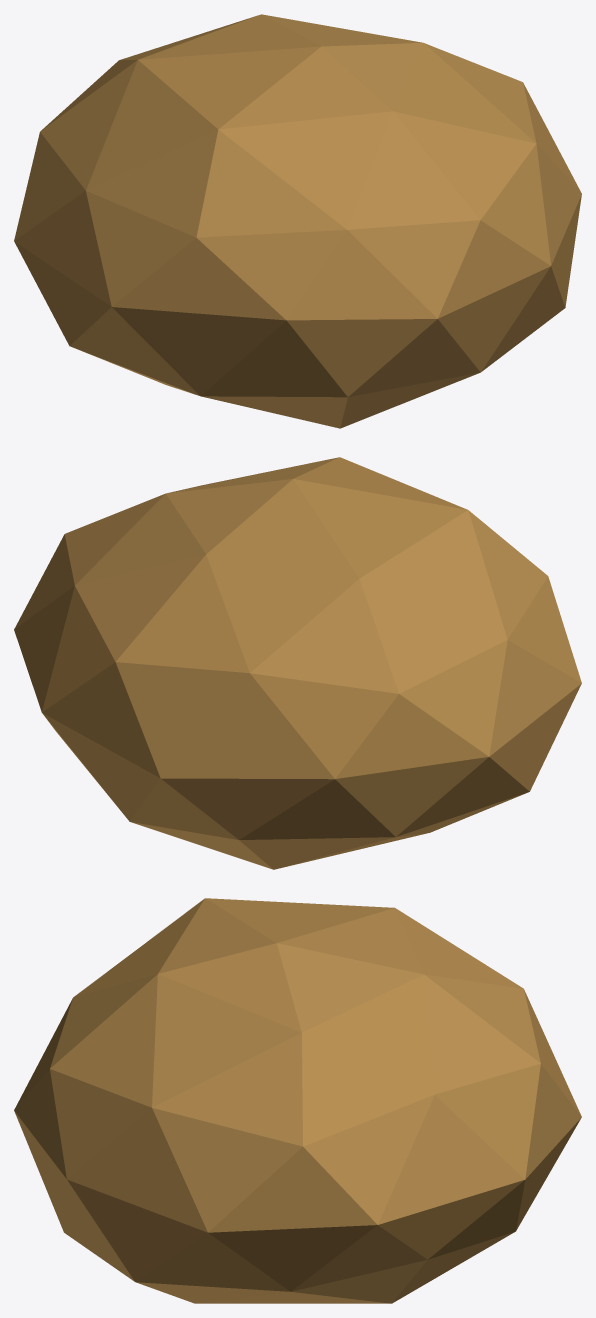
Rendered from Dirt.fbx.
3 views of the same model, one above another, from view 1: azimuth 30°, elevation 25°; view 2: azimuth 150°, elevation 25°; view 3: azimuth 270°, elevation 25° (orthographic).
Visible parts, largest first — view 1: Dirt; view 2: Dirt; view 3: Dirt.
Part boxes in pixels (x1,y1,x2,y2): Dirt: (14,14,581,428); Dirt: (14,457,581,869); Dirt: (14,898,581,1303).
Size of the model in its own units: 593 by 415 by 605.
